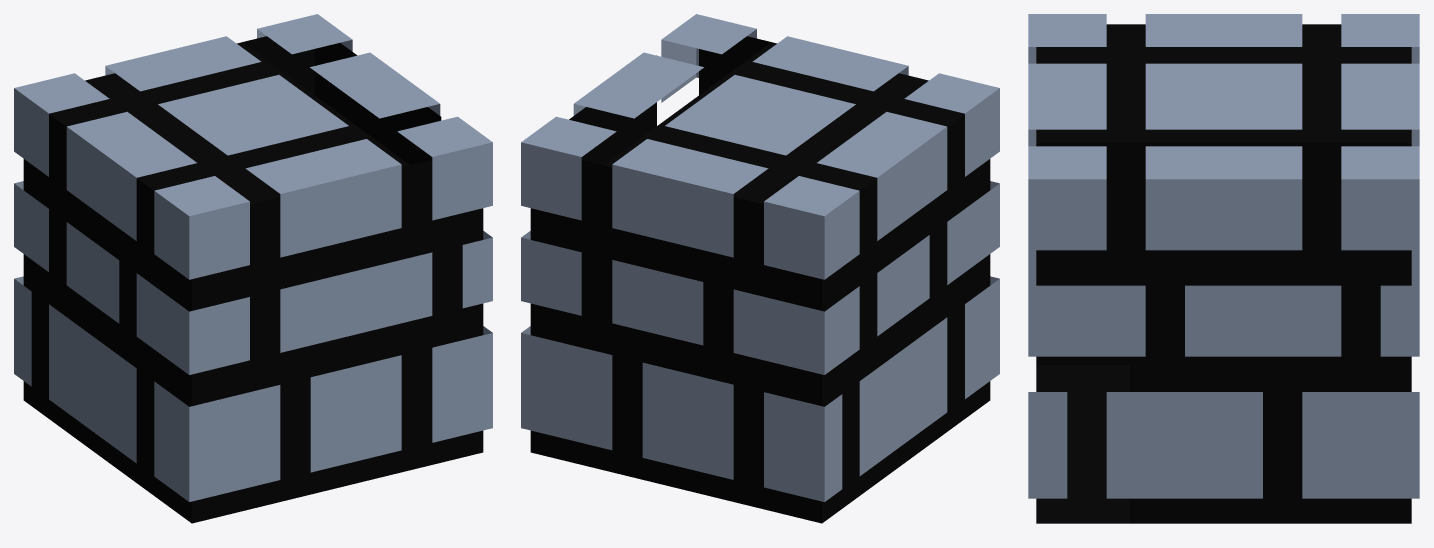
Rendered from fried-dungeons.glb.
The picture shows the model from 3 angles, left to right: view 1: azimuth 30°, elevation 25°; view 2: azimuth 150°, elevation 25°; view 3: azimuth 270°, elevation 25°; orthographic projection. The views are drawn at different scales.
Visible parts, largest first — view 1: Brick3; view 2: Brick3; view 3: Brick3.
Boxes of the visible parts, x1,y1,x2,y2 form: Brick3: (14,14,492,523); Brick3: (521,14,999,523); Brick3: (1028,14,1419,523).
Size of the model in its own units: 1 by 1 by 1.
1 material, 1 textured.
